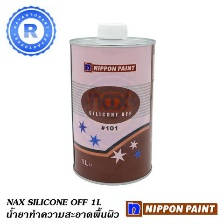cleaning_solution: (65, 19, 157, 188)
